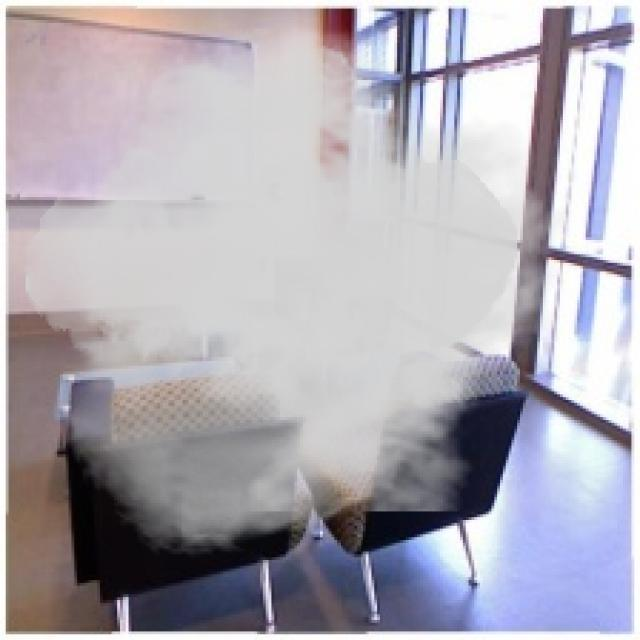Smoke: (22, 20, 574, 560)
